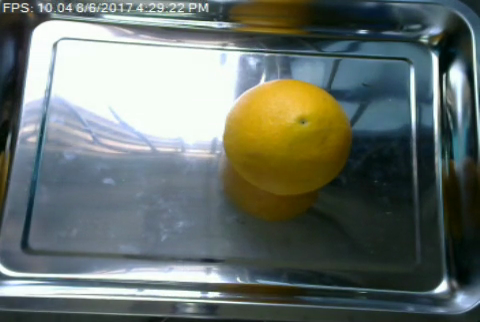Orange: (223, 78, 352, 196)
